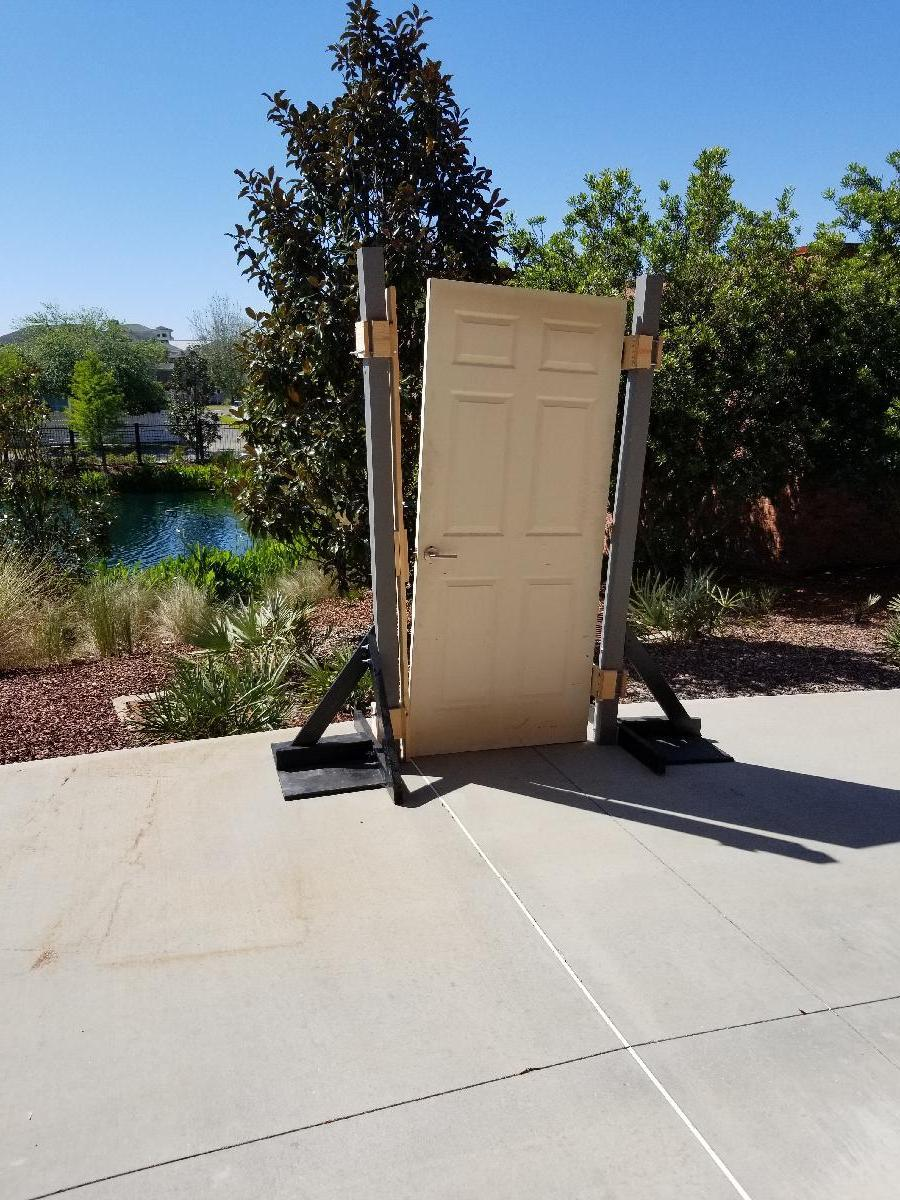door: (399, 276, 630, 776)
handle: (423, 545, 460, 564)
